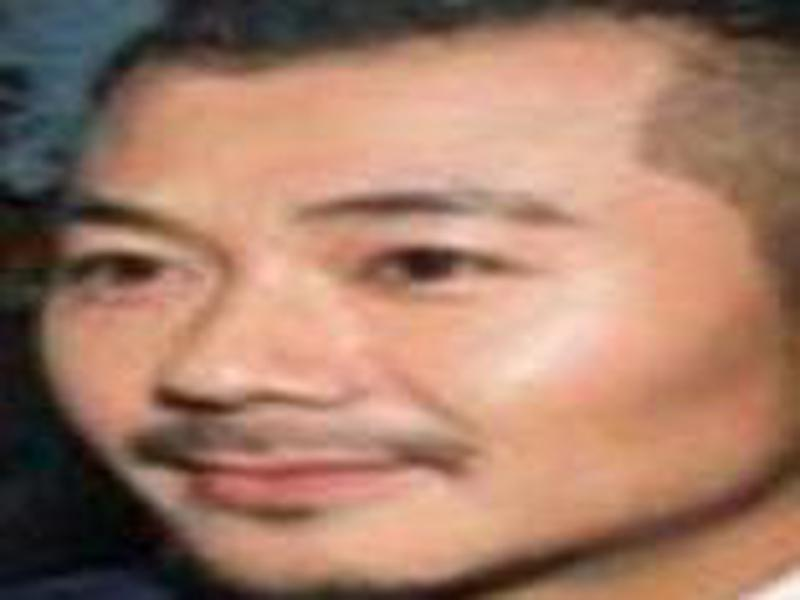without_mask: (33, 55, 755, 600)
